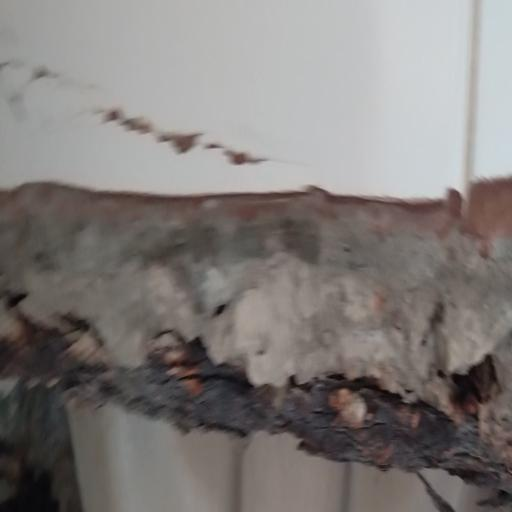spalling: (0, 165, 507, 468)
